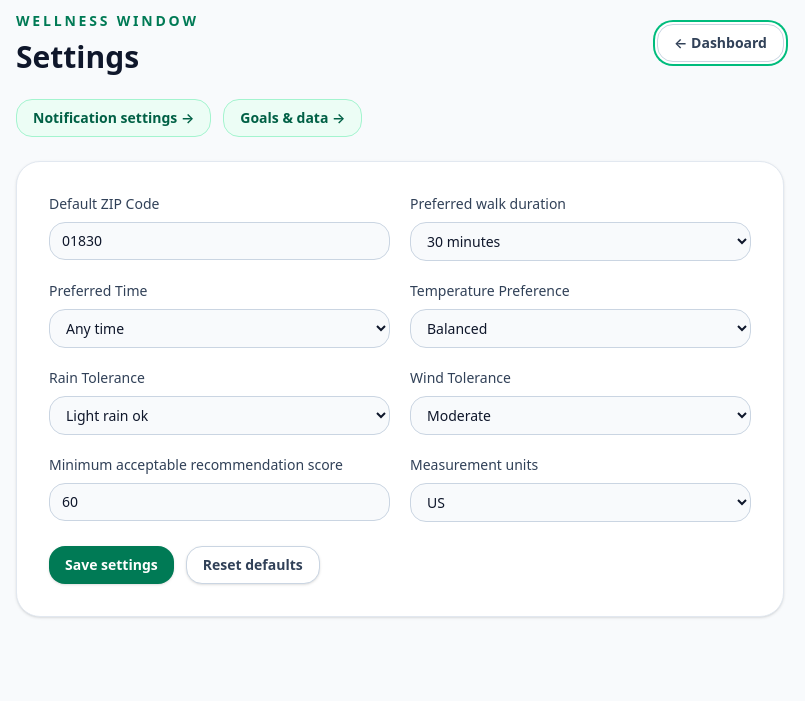
Test: SettingsPage › renders defaults and saves valid settings to localStorage
Expected: the dropdown labelled "Preferred walk duration" shows "30 minutes", [410,222,751,261]
Expected: the dropdown labelled "Preferred Time" is shown, [49,309,390,348]
Replace the text in the field labelled "Default ZIP Code" with "02108" at (220, 241), box [49,222,390,260]
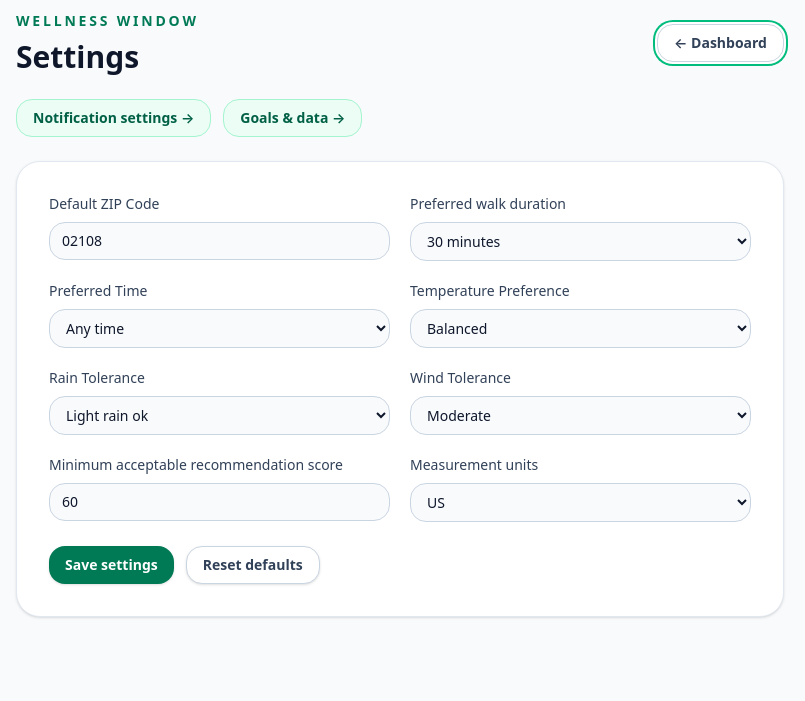
Select "45 minutes" in the dropdown labelled "Preferred walk duration" at (580, 242), box [410,222,751,261]
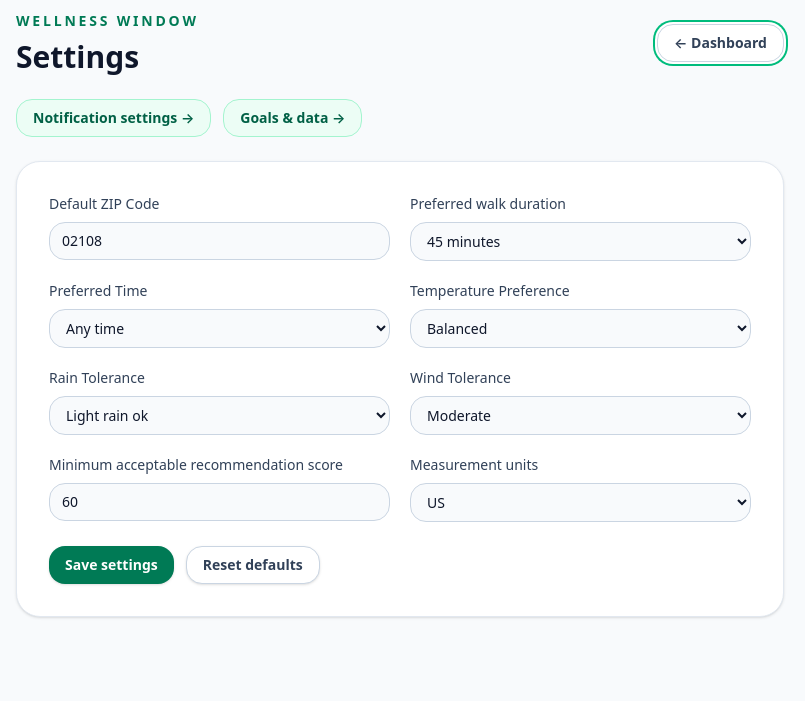
Select "Afternoon" in the dropdown labelled "Preferred Time" at (220, 328), box [49,309,390,348]
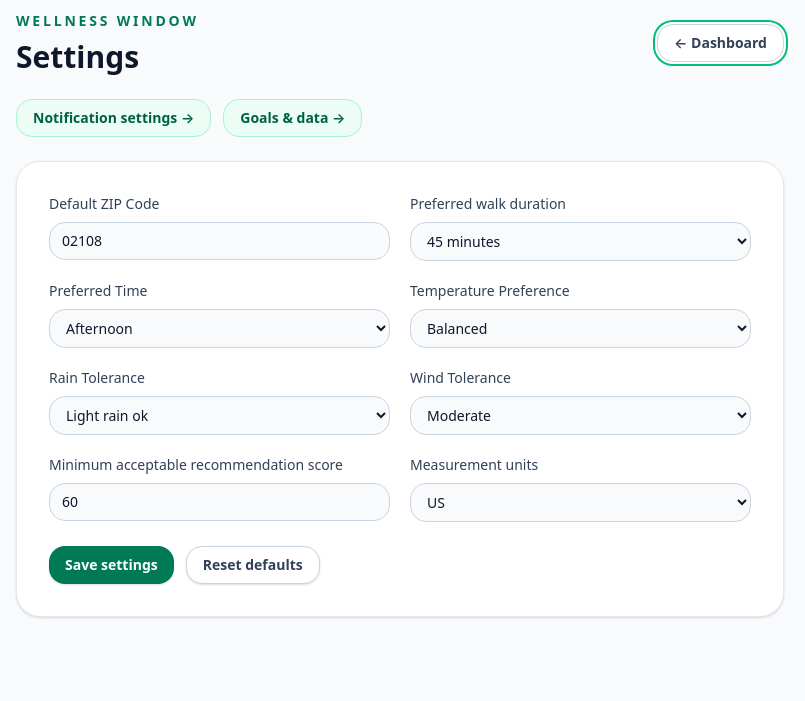
Select "Metric" in the dropdown labelled "Measurement units" at (580, 502), box [410,483,751,522]
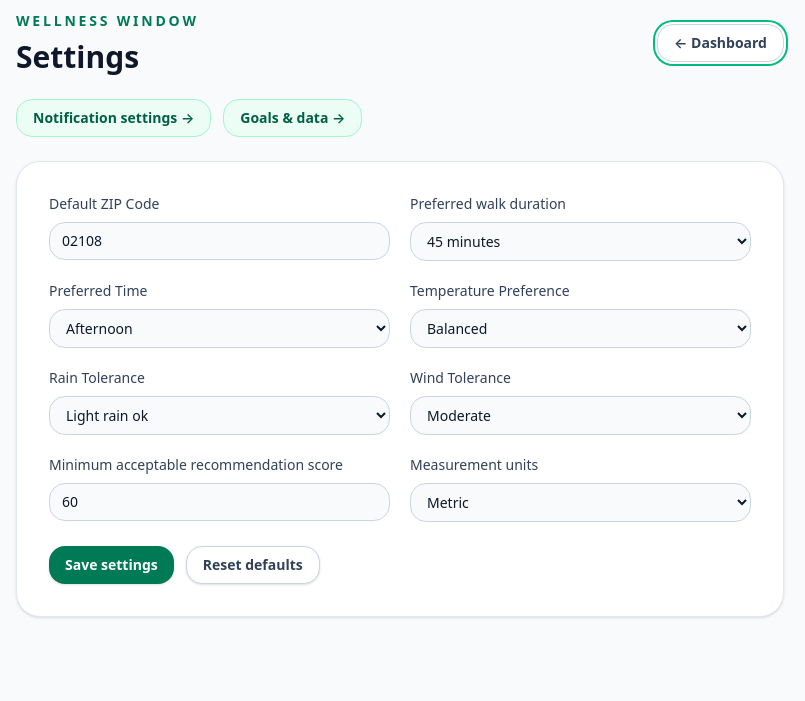
Click the button "Save settings" at (111, 565), box [49,546,174,584]
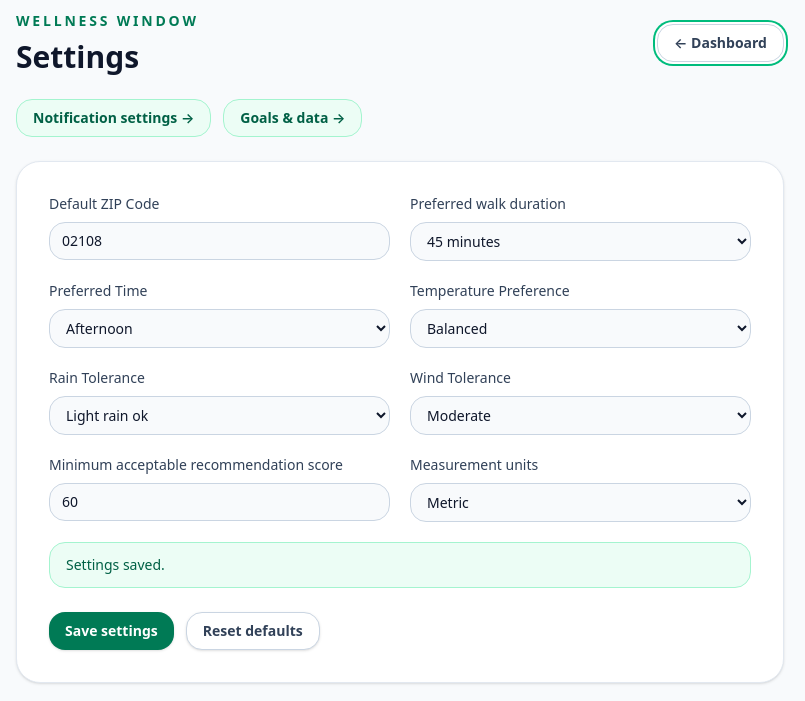
Now the text "Settings saved." is shown, box [49,542,751,588]
